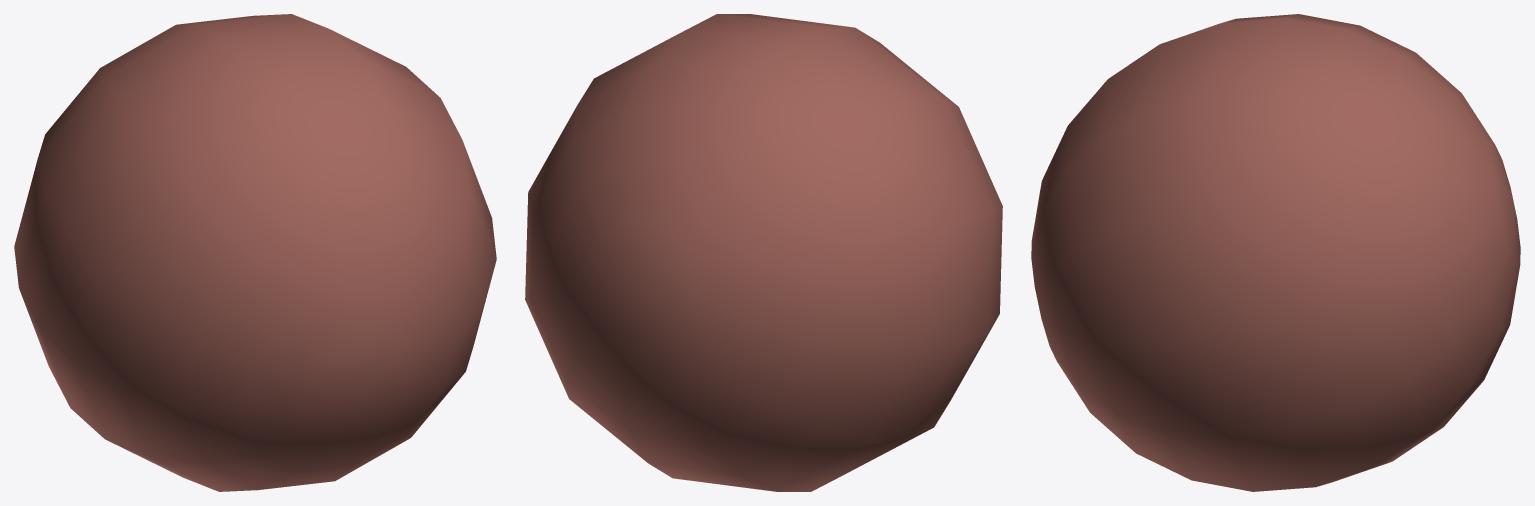
File: mixamo_humanoid_joint_leftHandThumb2.fbx
The picture shows the model from 3 angles, left to right: view 1: azimuth 30°, elevation 25°; view 2: azimuth 150°, elevation 25°; view 3: azimuth 270°, elevation 25°; orthographic projection.
Visible parts, largest first — view 1: joint_LeftHandThumb2; view 2: joint_LeftHandThumb2; view 3: joint_LeftHandThumb2.
Part boxes in pixels (x1,y1,x2,y2): joint_LeftHandThumb2: [14, 14, 496, 491]; joint_LeftHandThumb2: [525, 14, 1002, 491]; joint_LeftHandThumb2: [1031, 14, 1520, 491].
Bounding box in the file's own units: 2.19 × 2.19 × 2.21.
